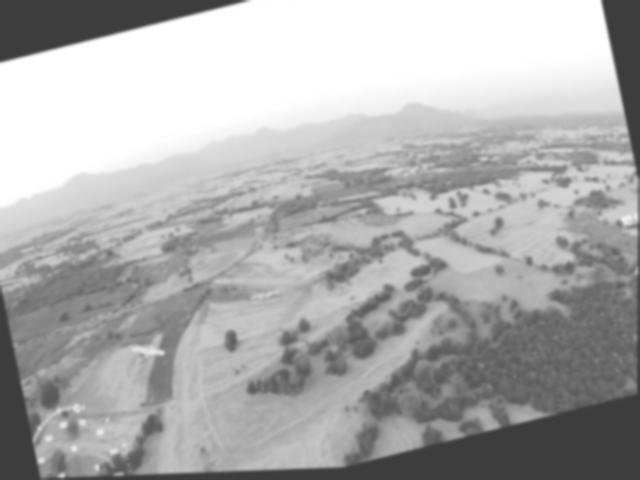hedef: (123, 332, 175, 373), (240, 280, 288, 316)
